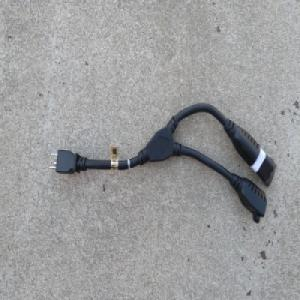Wire: (48, 101, 276, 225)
